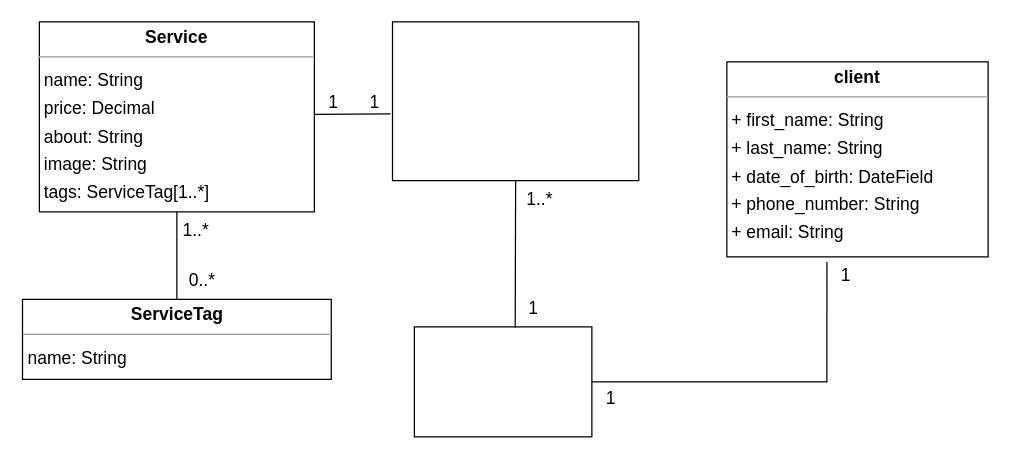
This 1010x459 diagram has some shape labels left out. The shapes that lost their labels are listed below. From the top down, each one's centre as x and y in pixels, then its label:
[515,101]: OrderItem price: Decimal quantity: Integer order: Order[1] service: Service[1]
[502,381]: Order + created: Datefield + client: Client[1]
